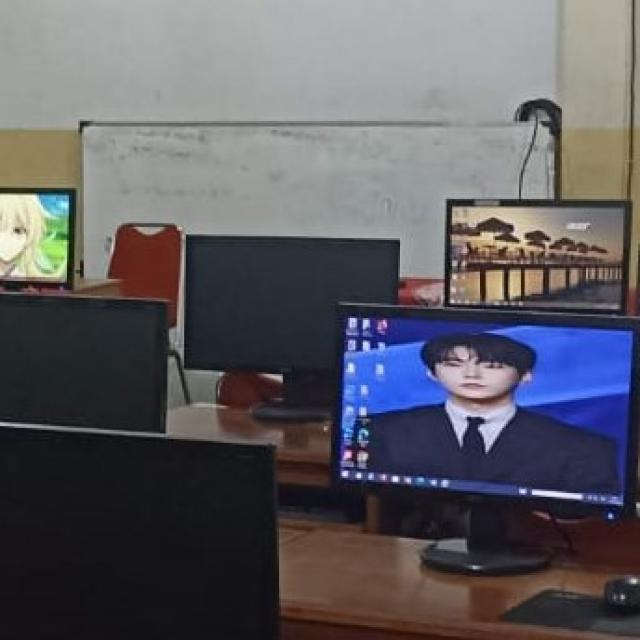offscreen: (0, 429, 278, 640), (185, 237, 397, 372), (0, 296, 163, 431)
onscreen: (336, 307, 636, 509), (446, 201, 628, 313), (0, 189, 74, 289)
